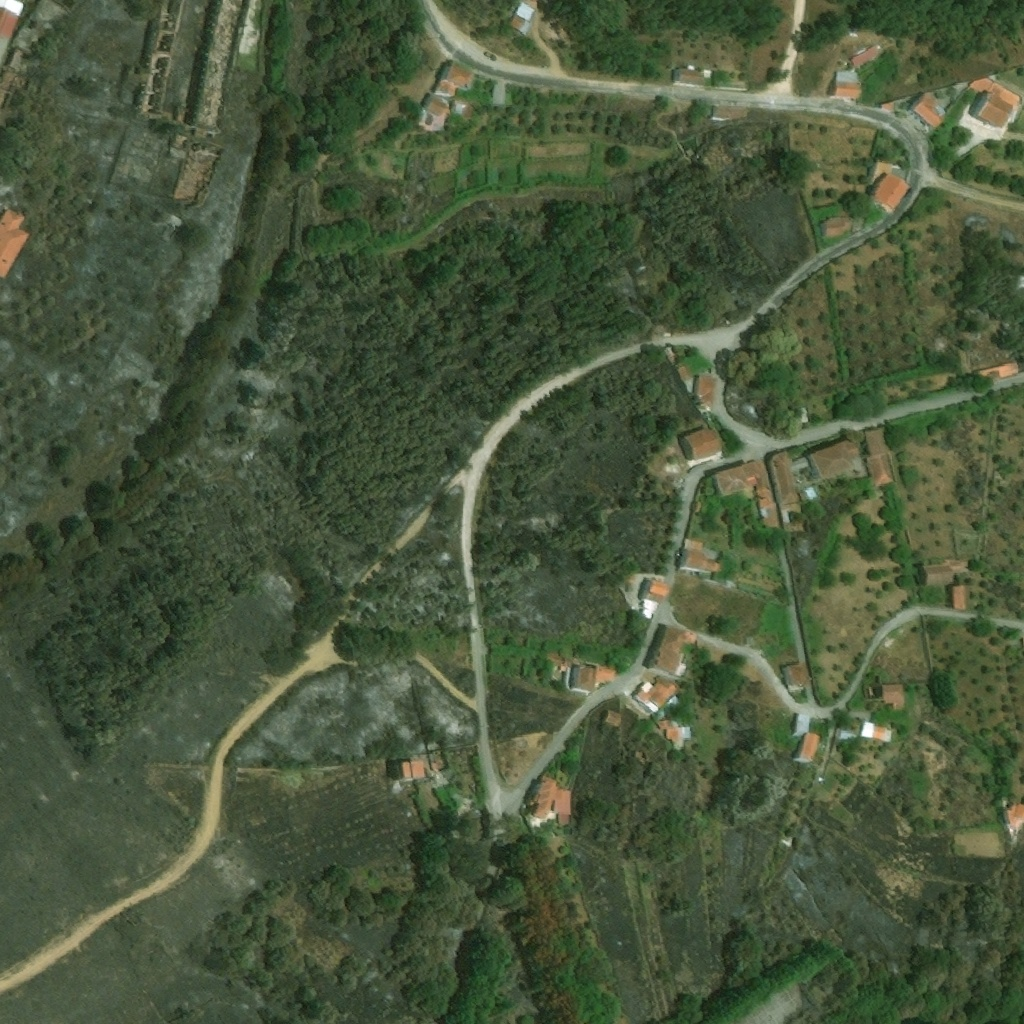0 no-damage: (730, 980, 811, 1023), (647, 624, 699, 677), (969, 78, 1021, 130), (0, 208, 31, 286), (713, 458, 772, 498), (769, 452, 811, 507), (531, 774, 574, 825), (811, 440, 862, 481), (871, 163, 911, 213), (865, 427, 895, 487), (681, 425, 726, 462), (634, 675, 679, 712), (566, 662, 618, 694), (0, 7, 20, 84), (683, 539, 725, 574), (913, 92, 943, 129), (660, 720, 693, 752), (975, 363, 1020, 384), (445, 61, 476, 89), (783, 663, 813, 691), (780, 501, 806, 533), (674, 66, 711, 87), (923, 564, 957, 586), (694, 376, 717, 408), (423, 94, 451, 119), (833, 76, 862, 100), (850, 46, 881, 68), (645, 577, 672, 602), (800, 733, 821, 760), (516, 0, 539, 24), (884, 684, 906, 709), (525, 813, 558, 829), (822, 219, 851, 237), (953, 585, 973, 609), (760, 504, 779, 528), (1005, 802, 1023, 825), (0, 0, 25, 16), (512, 15, 532, 34), (801, 481, 818, 503), (795, 712, 812, 733), (758, 488, 775, 508), (494, 79, 506, 106), (436, 81, 456, 96), (849, 433, 867, 449), (399, 761, 414, 779), (553, 665, 568, 682), (454, 100, 472, 114), (412, 761, 426, 778), (862, 721, 876, 738), (606, 711, 622, 725), (433, 114, 446, 131), (797, 407, 810, 424), (874, 723, 886, 740), (951, 82, 970, 91), (884, 725, 894, 742), (840, 729, 855, 739), (878, 102, 893, 110), (854, 722, 861, 738), (432, 763, 441, 772), (851, 30, 860, 37)
3 destroyed: (193, 0, 250, 132), (139, 0, 193, 125), (9, 0, 73, 81), (171, 133, 228, 208), (0, 72, 32, 128), (778, 834, 798, 853), (685, 150, 695, 160)
4 un-classified: (821, 405, 833, 419), (490, 114, 501, 123)
